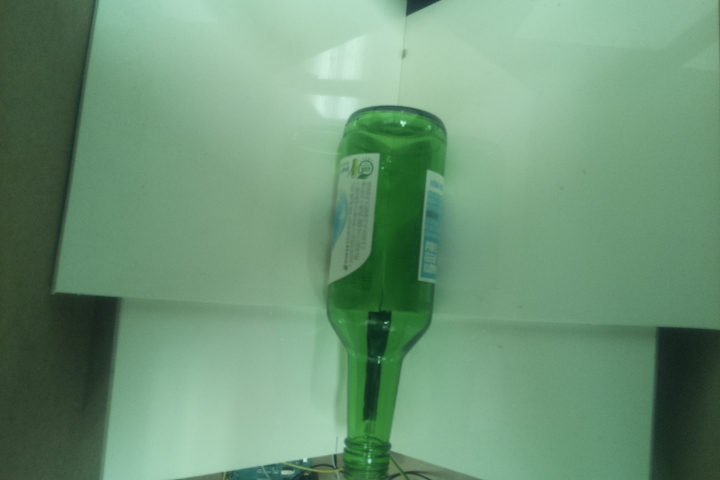soju: (322, 103, 448, 480)
